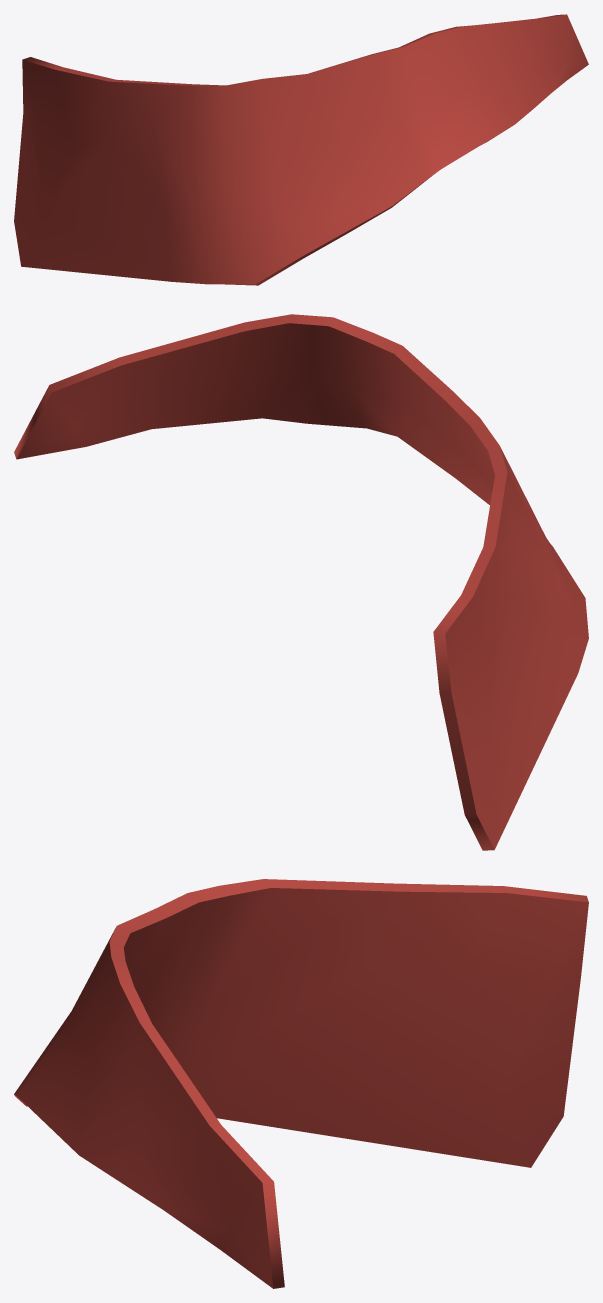
Rendered from musculos-inferior-extensor-retinaculum-of-ankle-r.glb.
The picture shows the model from 3 angles, top to bottom: view 1: azimuth 30°, elevation 25°; view 2: azimuth 150°, elevation 25°; view 3: azimuth 270°, elevation 25°; orthographic projection. The views are drawn at different scales.
Parts seen in each view (by area): view 1: Inferior extensor retinaculum of ankle.r; view 2: Inferior extensor retinaculum of ankle.r; view 3: Inferior extensor retinaculum of ankle.r.
Part boxes in pixels (box(x1,y1,x2,y2)): Inferior extensor retinaculum of ankle.r: box(14, 14, 588, 285); Inferior extensor retinaculum of ankle.r: box(14, 314, 588, 850); Inferior extensor retinaculum of ankle.r: box(14, 879, 588, 1288).
Bounding box in the file's own units: 0.0529 × 0.0284 × 0.0368.
